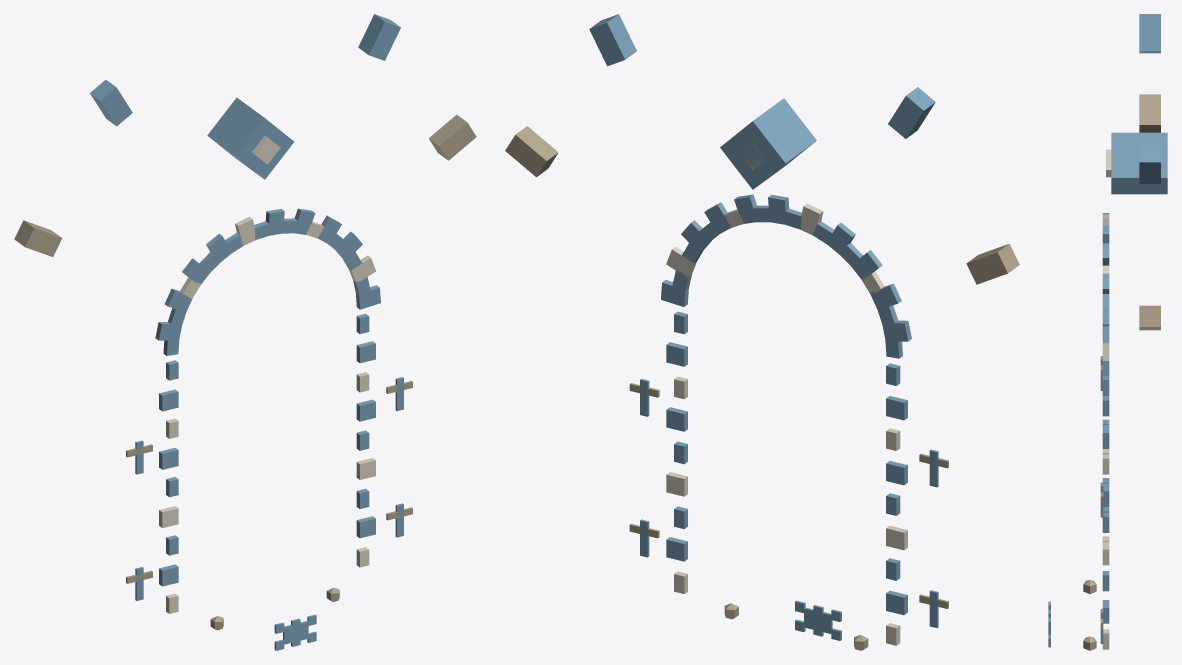
The model's file is realm_glow_ice.glb.
3 views of the same model, side by side, from view 1: azimuth 30°, elevation 25°; view 2: azimuth 150°, elevation 25°; view 3: azimuth 270°, elevation 25° (orthographic). The views are drawn at different scales.
Visible parts, largest first — view 1: realm_glow_ice; view 2: realm_glow_ice; view 3: realm_glow_ice.
Part boxes in pixels (<box>): realm_glow_ice: <box>14,14,476,650</box>; realm_glow_ice: <box>505,14,1019,650</box>; realm_glow_ice: <box>1048,14,1167,650</box>.
Size of the model in its own units: 3.89 by 4.59 by 0.89.
